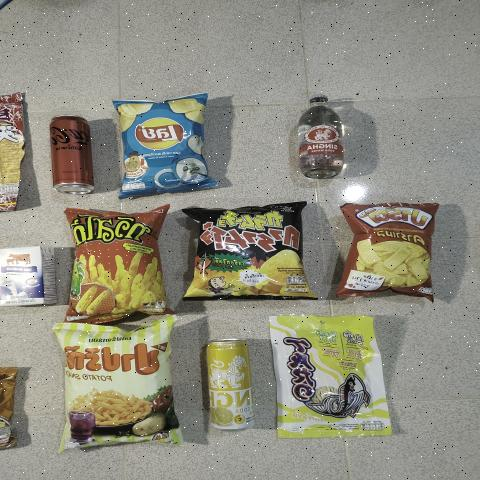coke_red: (47, 113, 96, 199)
karamujo: (191, 206, 304, 300)
lay_blue: (112, 96, 220, 188)
paprika: (61, 327, 172, 449)
party_red: (348, 202, 432, 299)
singha_soda: (289, 94, 354, 176)
singha_yellow: (207, 338, 251, 433)
taro_yellow: (276, 318, 372, 436)
thai_denmark: (0, 243, 48, 318)
twisco: (70, 209, 160, 318)
